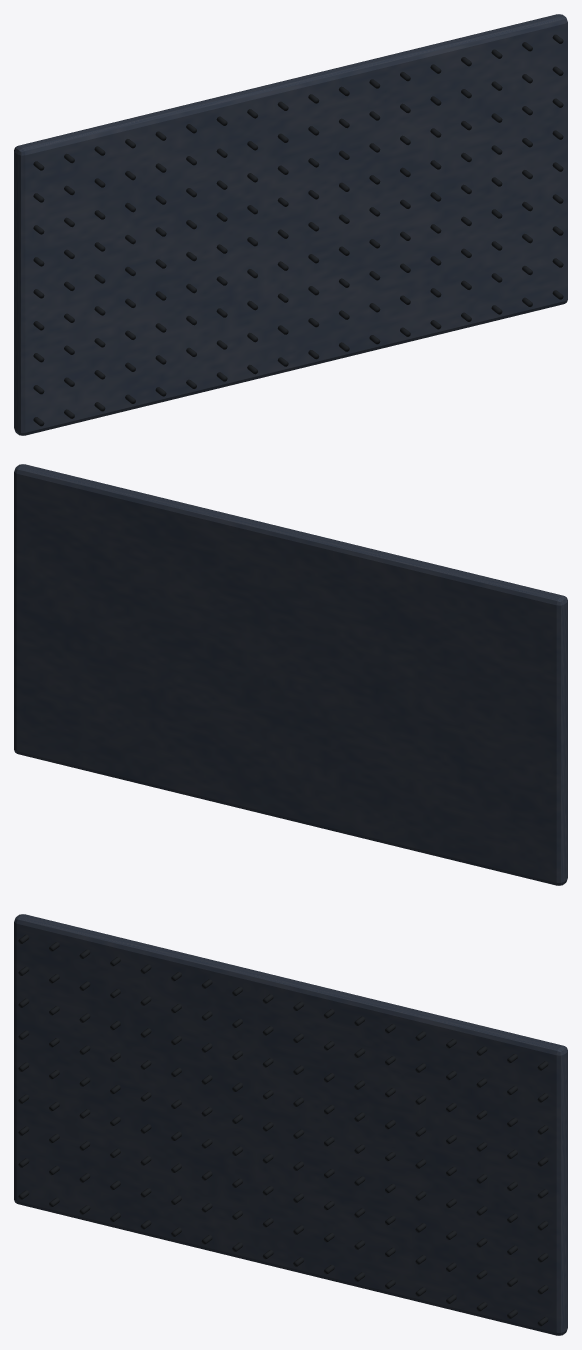
File: Pegboard.obj
3 renders of one model, top to bottom at view 1: azimuth 30°, elevation 25°; view 2: azimuth 150°, elevation 25°; view 3: azimuth 330°, elevation 25°, orthographic.
Parts seen in each view (by area): view 1: Panel; view 2: Panel; view 3: Panel.
Boxes of the visible parts, x1,y1,x2,y2 form: Panel: (14,14,567,435); Panel: (14,464,567,885); Panel: (14,914,567,1335).
Bounding box in the file's own units: 0.9 × 0.45 × 0.0425.
